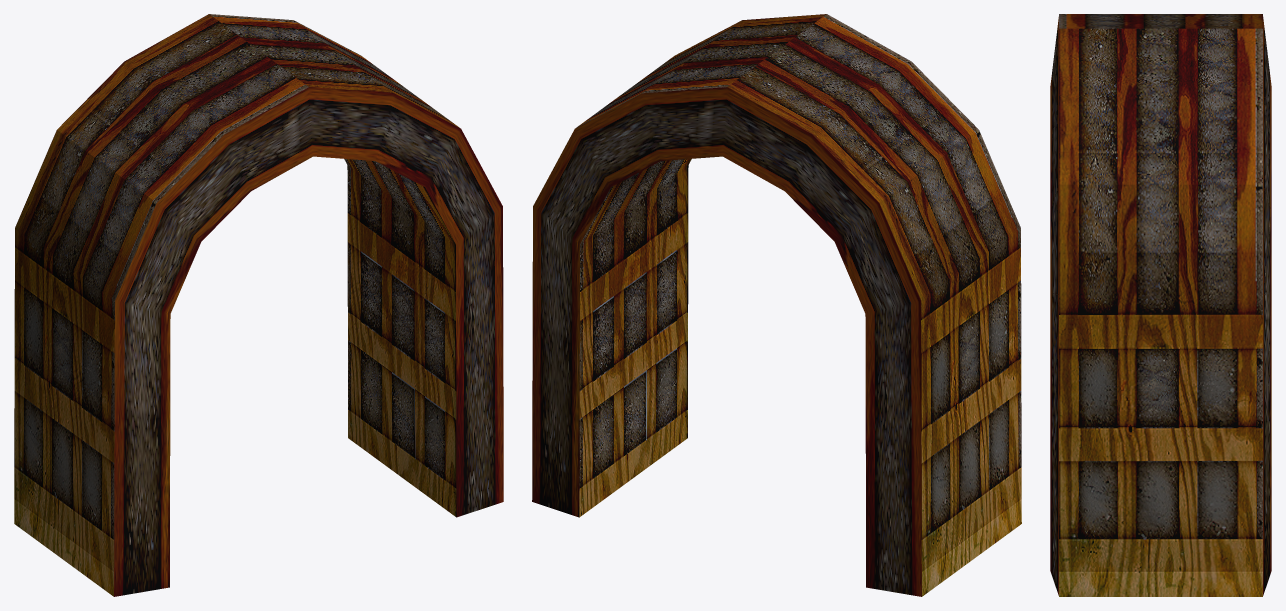
File: Prop_SM_Doorframe_a.fbx
3 views of the same model, side by side, from view 1: azimuth 30°, elevation 25°; view 2: azimuth 150°, elevation 25°; view 3: azimuth 270°, elevation 25° (orthographic).
Visible parts, largest first — view 1: Prop_SM_Doorframe_a; view 2: Prop_SM_Doorframe_a; view 3: Prop_SM_Doorframe_a.
Boxes of the visible parts, x1,y1,x2,y2 form: Prop_SM_Doorframe_a: [14, 14, 503, 596]; Prop_SM_Doorframe_a: [532, 14, 1021, 596]; Prop_SM_Doorframe_a: [1050, 14, 1271, 596].
Size of the model in its own units: 2.48 by 2.81 by 1.19.
Materials: 1 (1 with a texture image).
